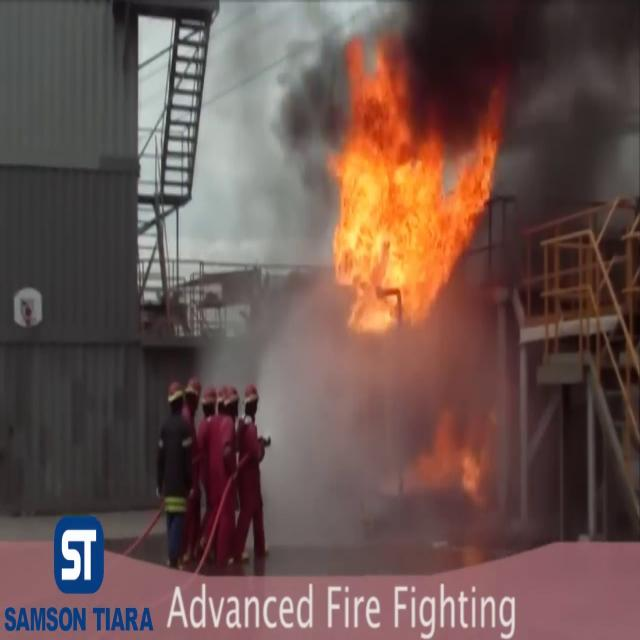Fire: (319, 52, 505, 340)
Smoke: (254, 257, 519, 569), (388, 0, 640, 162)
